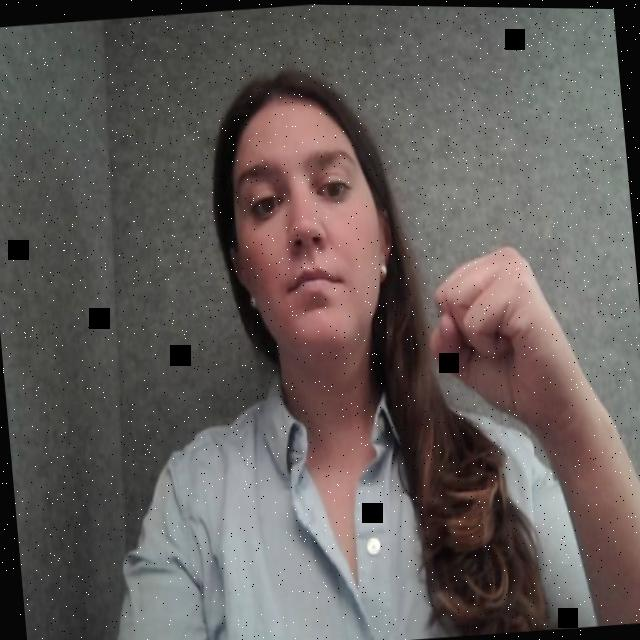Rock: (406, 235, 574, 427)
